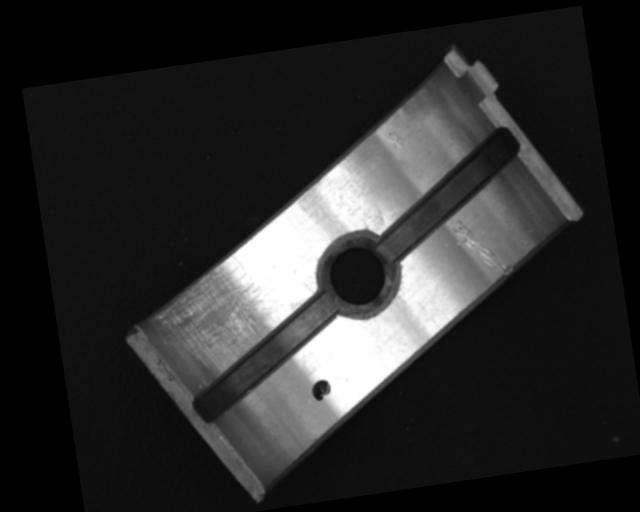blot: (309, 379, 332, 403)
bruise: (383, 128, 404, 153)
gap: (364, 124, 534, 261), (179, 292, 348, 422)
hole: (313, 227, 405, 321)
nick: (449, 212, 513, 283)
scratch: (141, 241, 307, 381)
